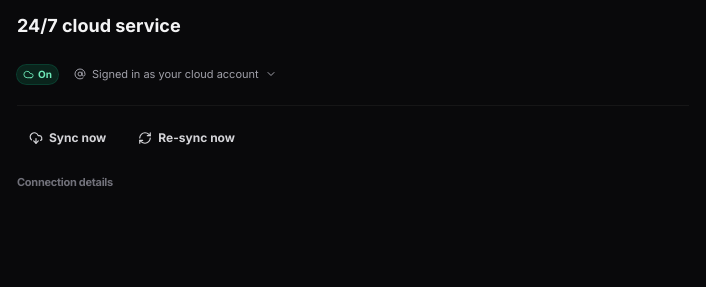
Test: Cloud › CONNECTED: sync-now reconciles and renders the patched + refused summary
The image size is (706, 287).
Click the button "Sync now": (68, 138) [17, 122, 118, 154]
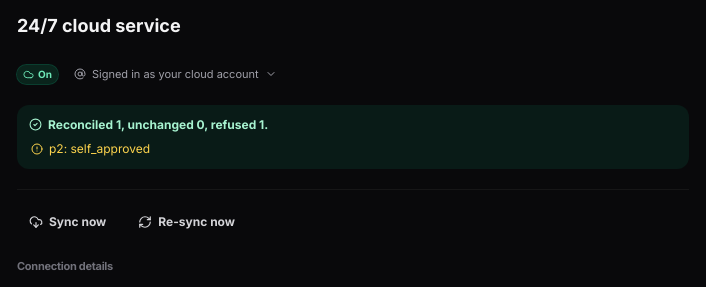
Result: the text "Reconciled 1, unchanged 0, refused 1." is shown at [29, 116, 268, 132]
Result: the text "p2: self_approved" is shown at [49, 140, 150, 156]
